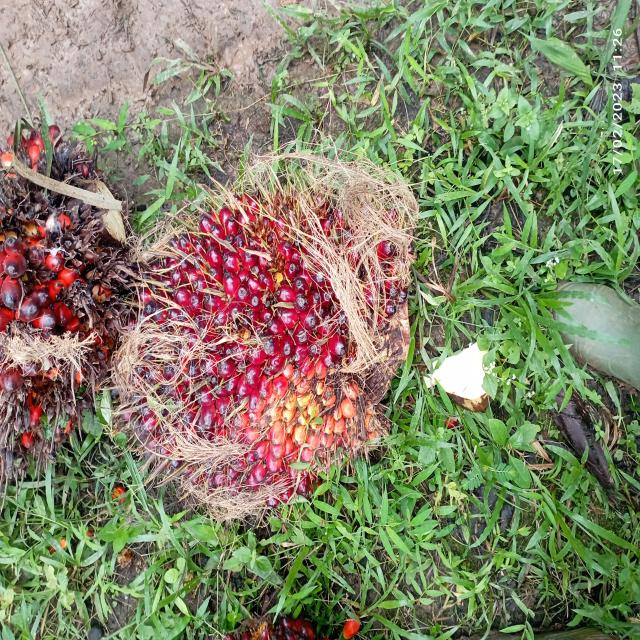fraksi 3: (103, 143, 425, 512), (0, 121, 131, 473)
